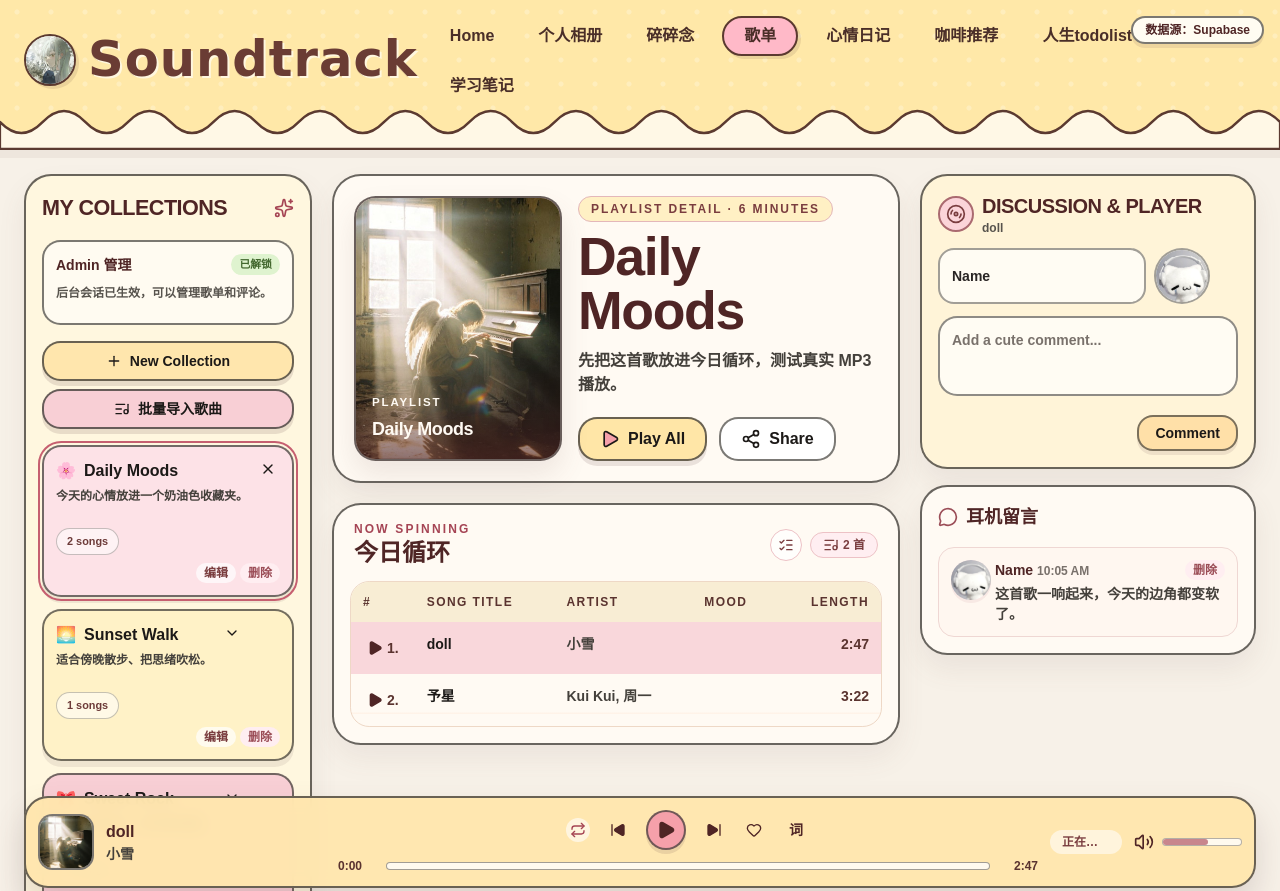
Test: PlaylistsPageView › edits a playlist collection from admin mode
expect the text "已解锁" is shown: met, box x1=231 y1=254 x2=280 y2=275
Click the 1st button "编辑" at (216, 573), box x1=196 y1=563 x2=236 y2=583
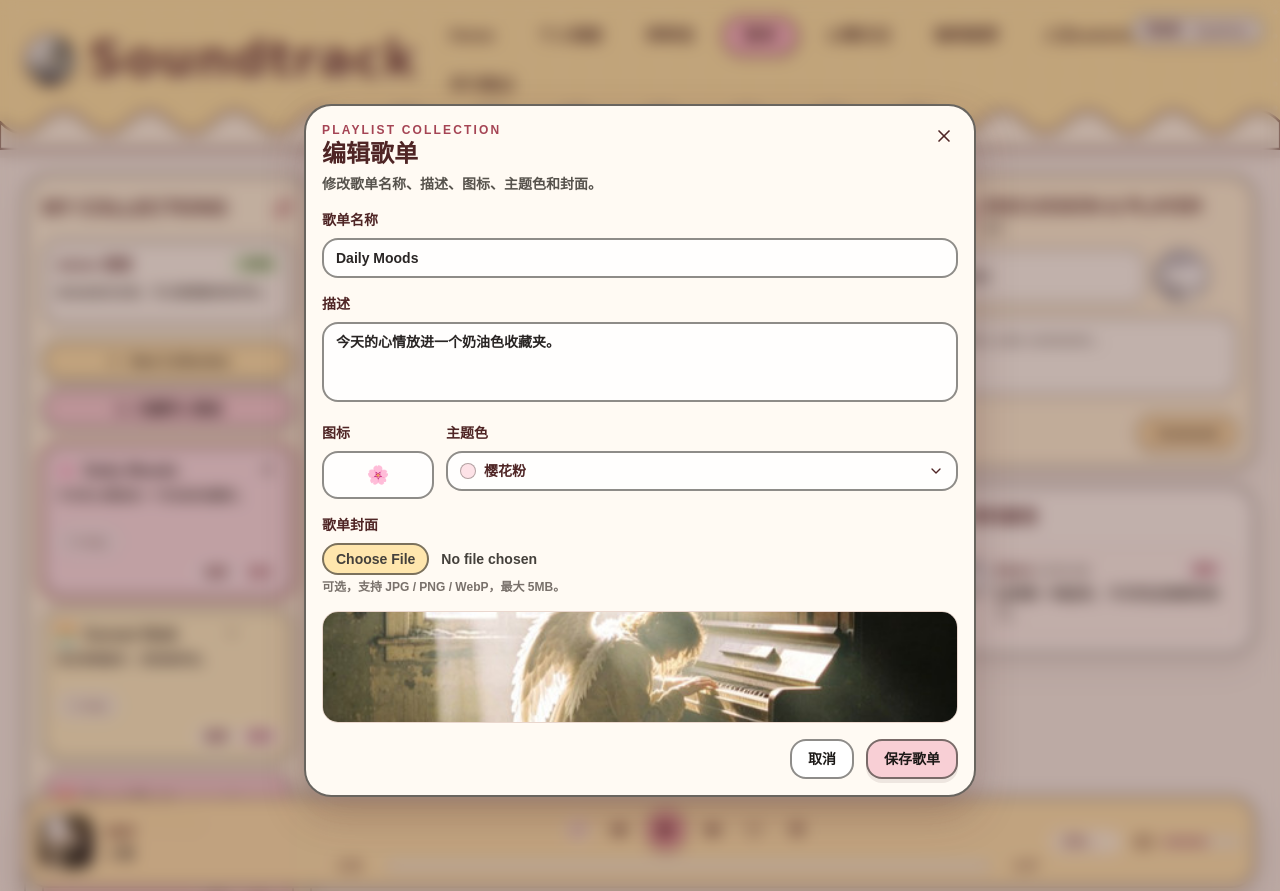
Replace the text in the field labelled "歌单名称" with "Late Night Loop" at (640, 258), box x1=322 y1=238 x2=958 y2=278
Replace the text in the text box labelled "描述" with "夜里慢慢听。" at (640, 362), box x1=322 y1=322 x2=958 y2=402
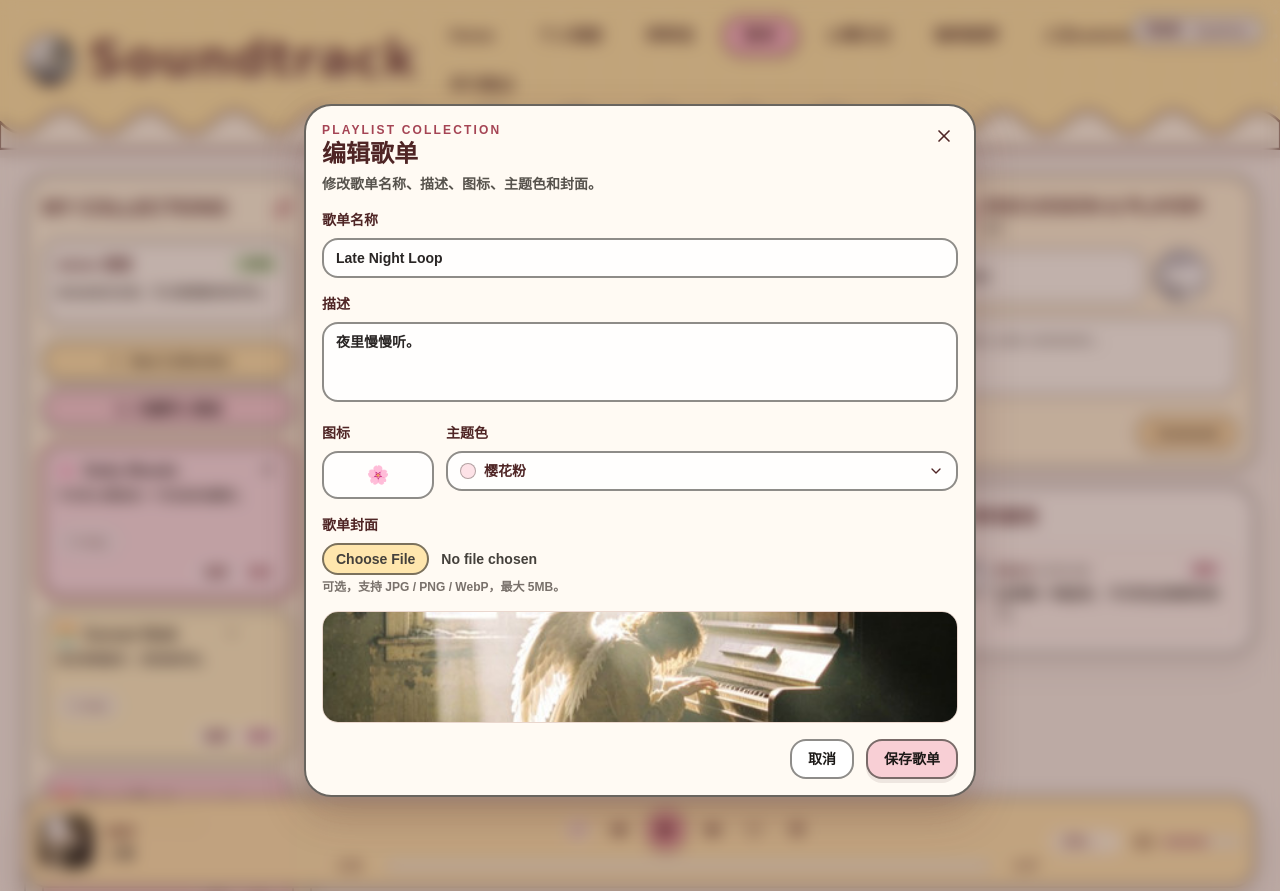
Replace the text in the field labelled "图标" with "🌙" at (378, 474), box x1=322 y1=450 x2=434 y2=498
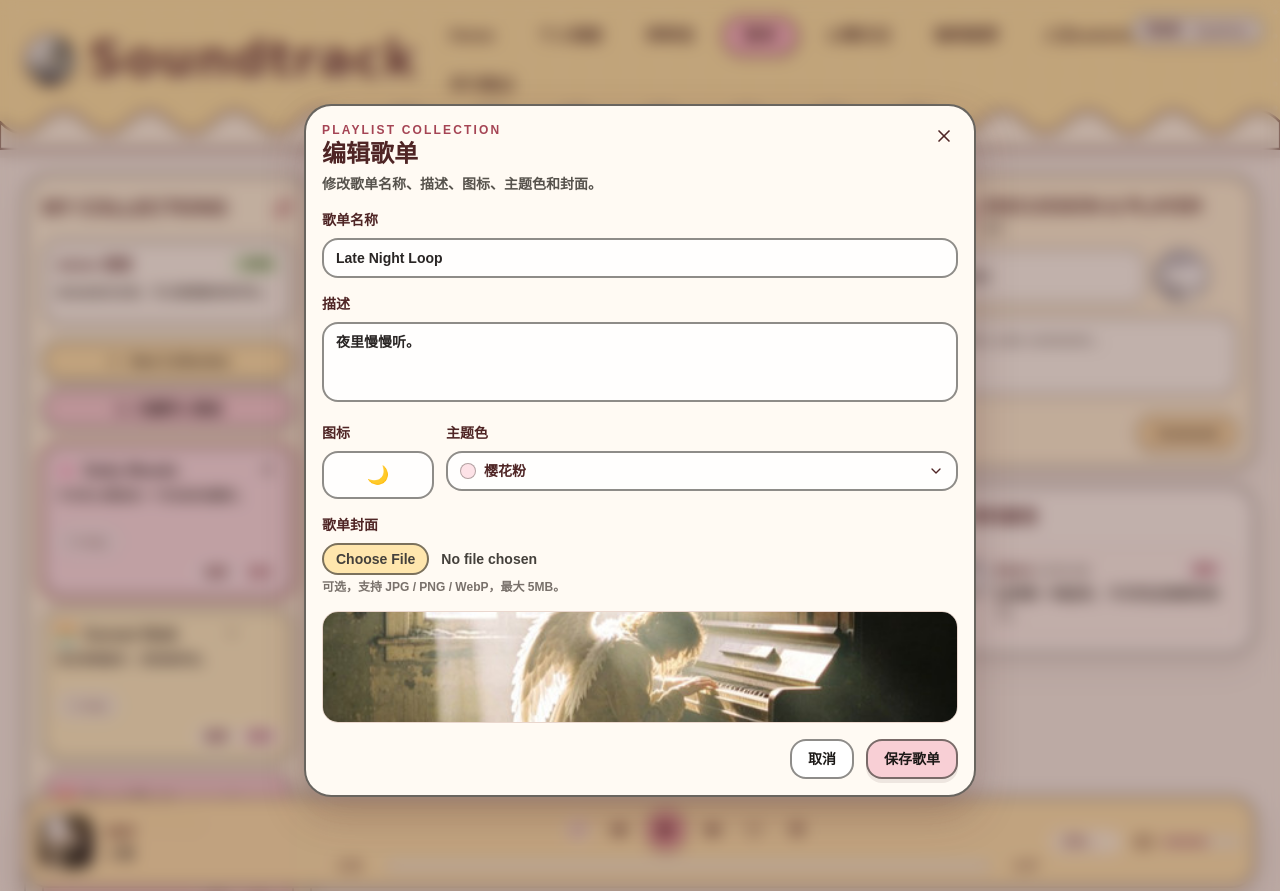
Click the dropdown named "主题色" at (505, 470), box x1=446 y1=450 x2=958 y2=490
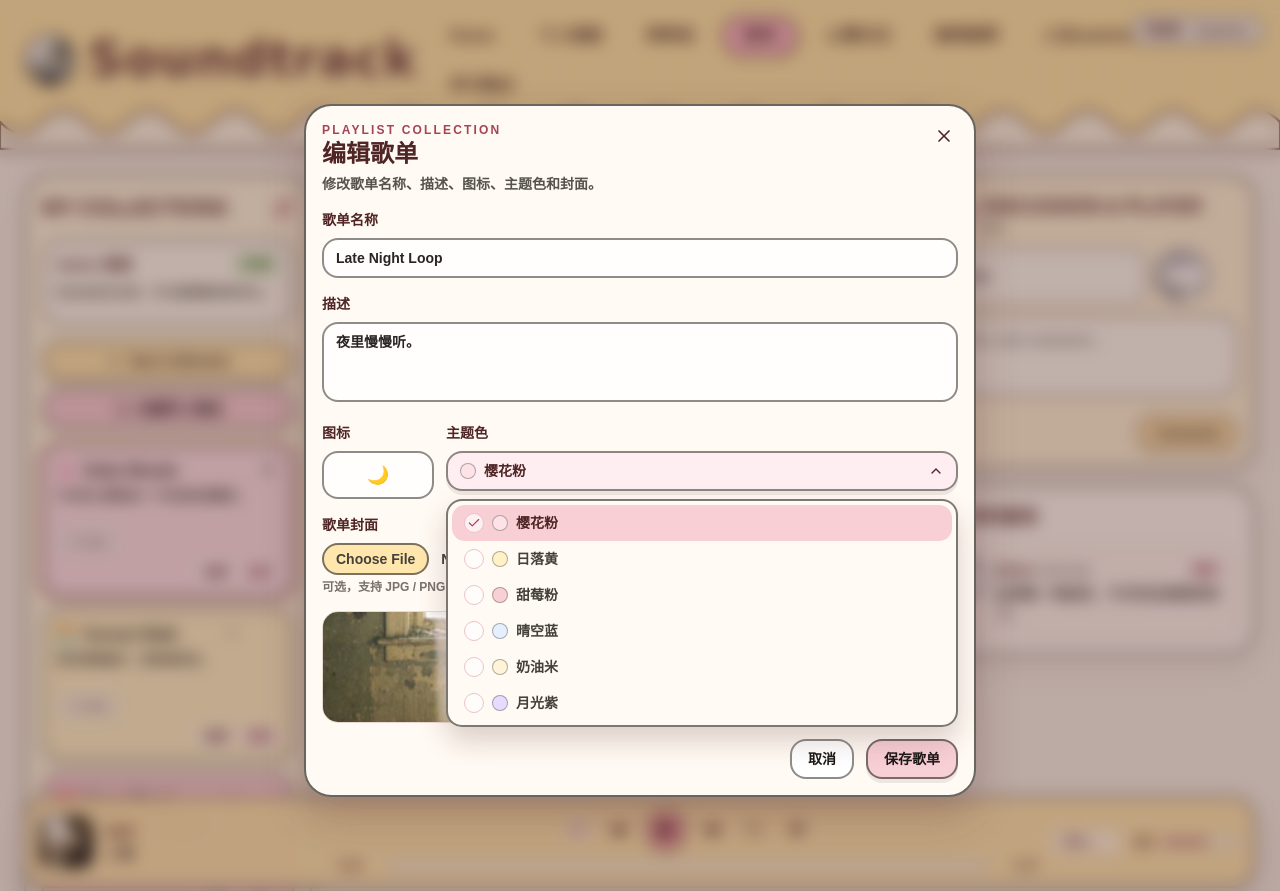
Click the option "晴空蓝" at (511, 630), box x1=464 y1=620 x2=558 y2=640
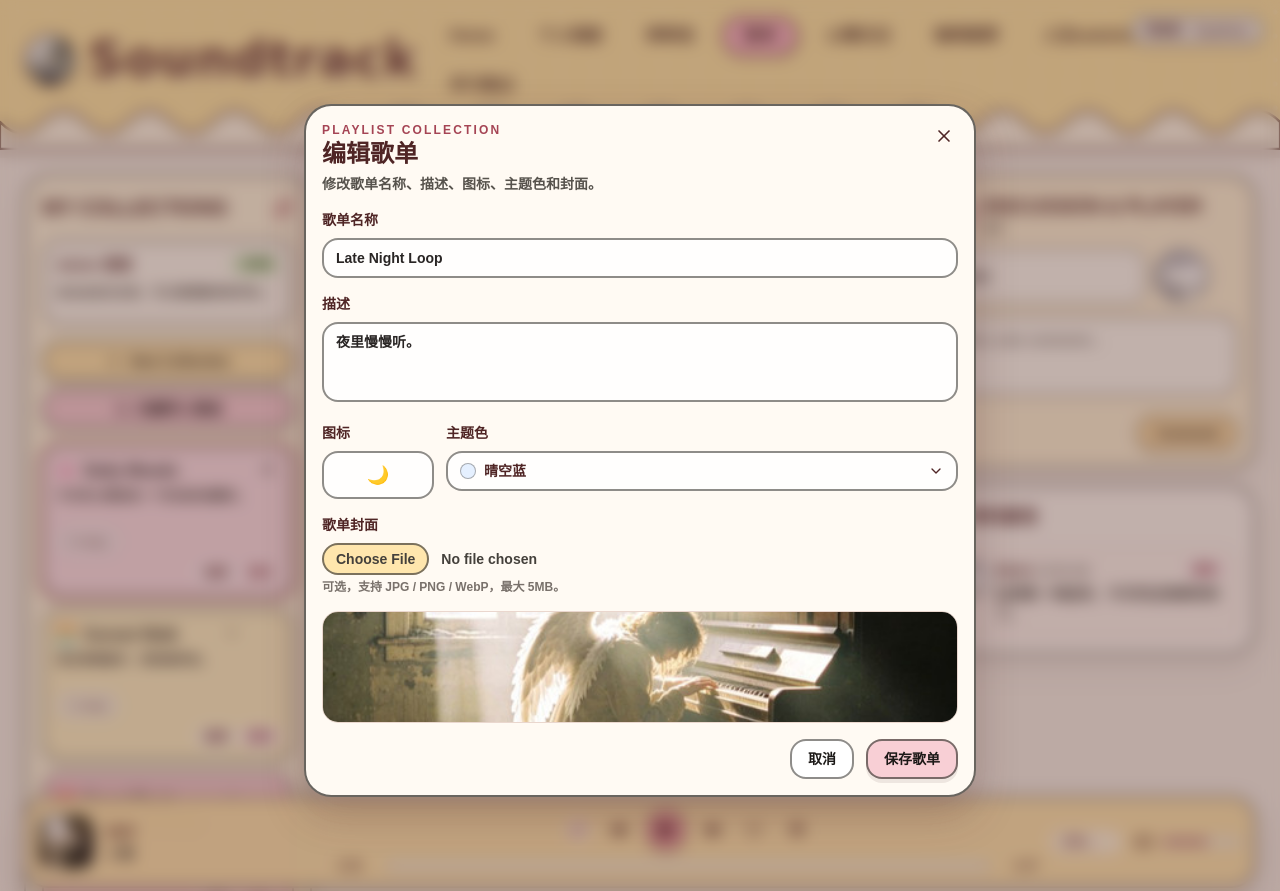
Click the button "保存歌单" at (912, 758), box x1=866 y1=738 x2=958 y2=778
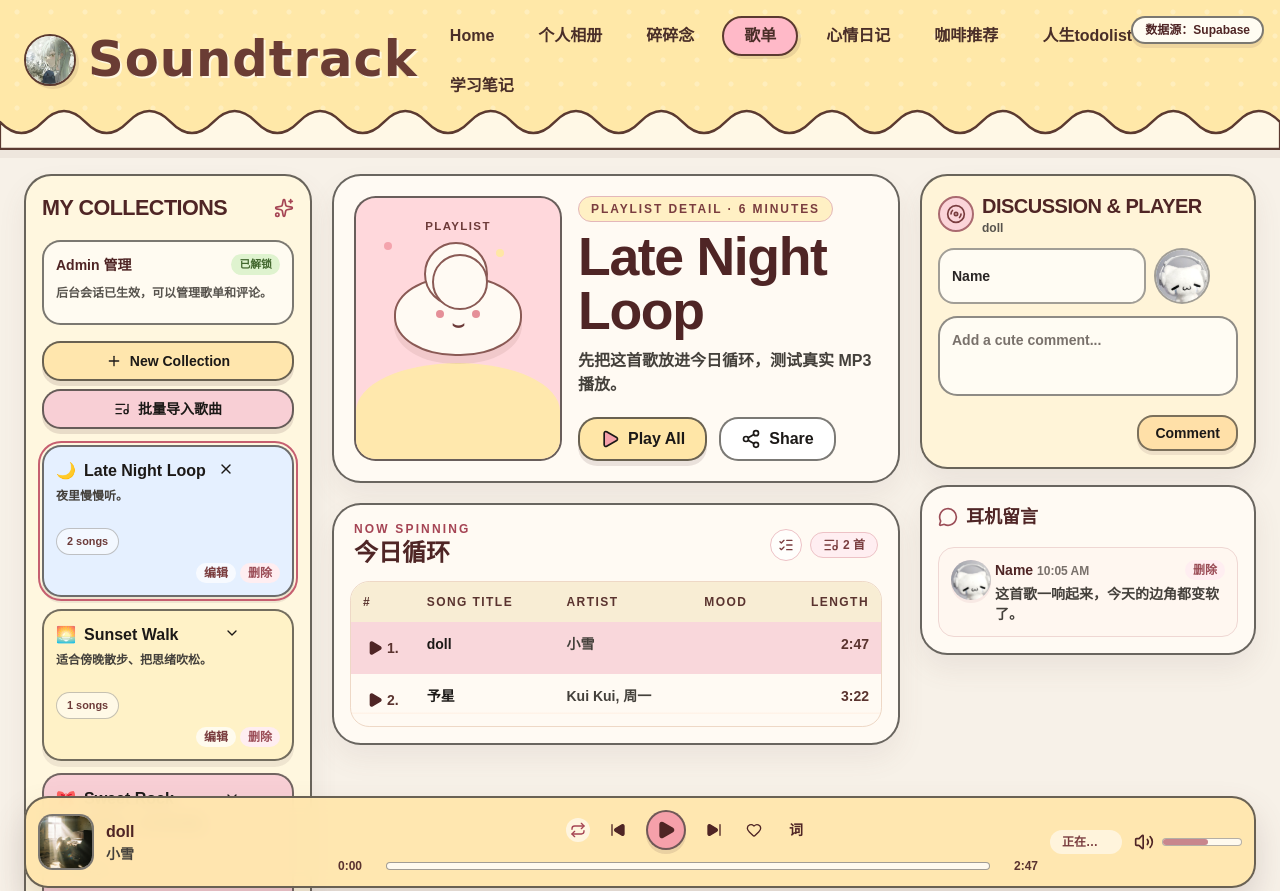
expect the heading labelled "编辑歌单" is gone: met
